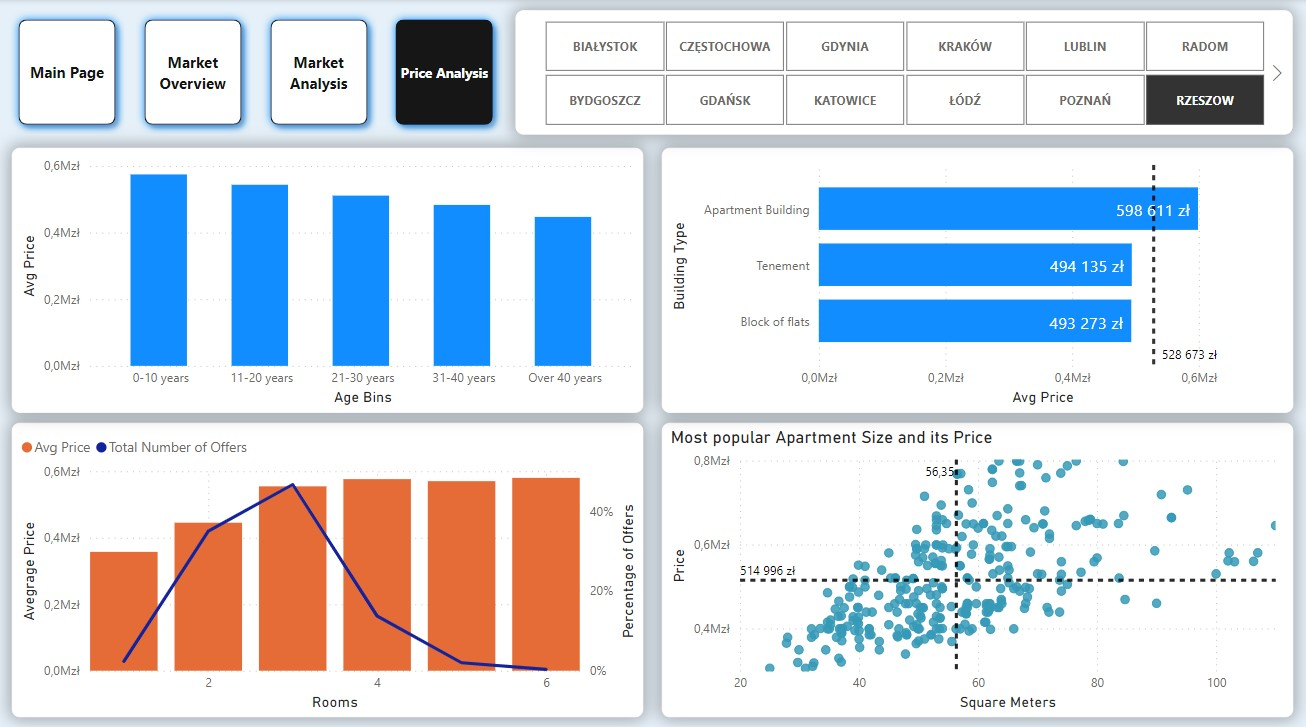

The page's visual inventory and layout, read from the dashboard file:
{"tool":"powerbi","page":{"name":"Price Analysis","canvas":[1280,720],"ordinal":3},"visuals":[{"type":"scatterChart","title":"Most popular Apartment Size and its Price","fields":{"X":["_Measures.Avg Square Meters"],"Category":["Apartments_data.Index"],"Series":["DIM_City.city"],"Y":["_Measures.Avg Price"]},"box":[648.8,414.9,617.5,288.2],"z":0},{"type":"lineStackedColumnComboChart","title":"Average Price and Number of Offers by Number of Rooms","fields":{"Category":["Apartments_data.rooms"],"Y":["_Measures.Avg Price"],"Y2":["_Measures.Total Number of Offers"]},"box":[13.3,414.9,617.5,288.2],"z":1000},{"type":"columnChart","title":"Average Price by Building Age","fields":{"Category":["Apartments_data.Age Bins","FACT_Apartments_data.Age of Building"],"Y":["_Measures.Avg Price"]},"box":[13.3,145.9,617.5,259.3],"z":2000},{"type":"clusteredBarChart","title":"Average Price by Building Type","fields":{"Category":["DIM_Building_types.building_type"],"Y":["_Measures.Avg Price"]},"box":[648.8,145.9,617.5,259.3],"z":3000},{"type":"slicer","fields":{"Values":["DIM_City.city"]},"box":[506.2,11.2,760,121.2],"z":4000},{"type":"pageNavigator","box":[10.9,10.9,483.6,121.8],"z":6000}]}

Visuals, with their boxes in screenshot pixels (x1, y1, x2, y2), scaled from the page's 1280x720 canvas onto the 1306x727 screenshot:
"Most popular Apartment Size and its Price" scatterChart: (662,419,1292,710)
"Average Price and Number of Offers by Number of Rooms" lineStackedColumnComboChart: (14,419,644,710)
"Average Price by Building Age" columnChart: (14,147,644,409)
"Average Price by Building Type" clusteredBarChart: (662,147,1292,409)
slicer - DIM_City.city: (516,11,1292,134)
pageNavigator: (11,11,505,134)
